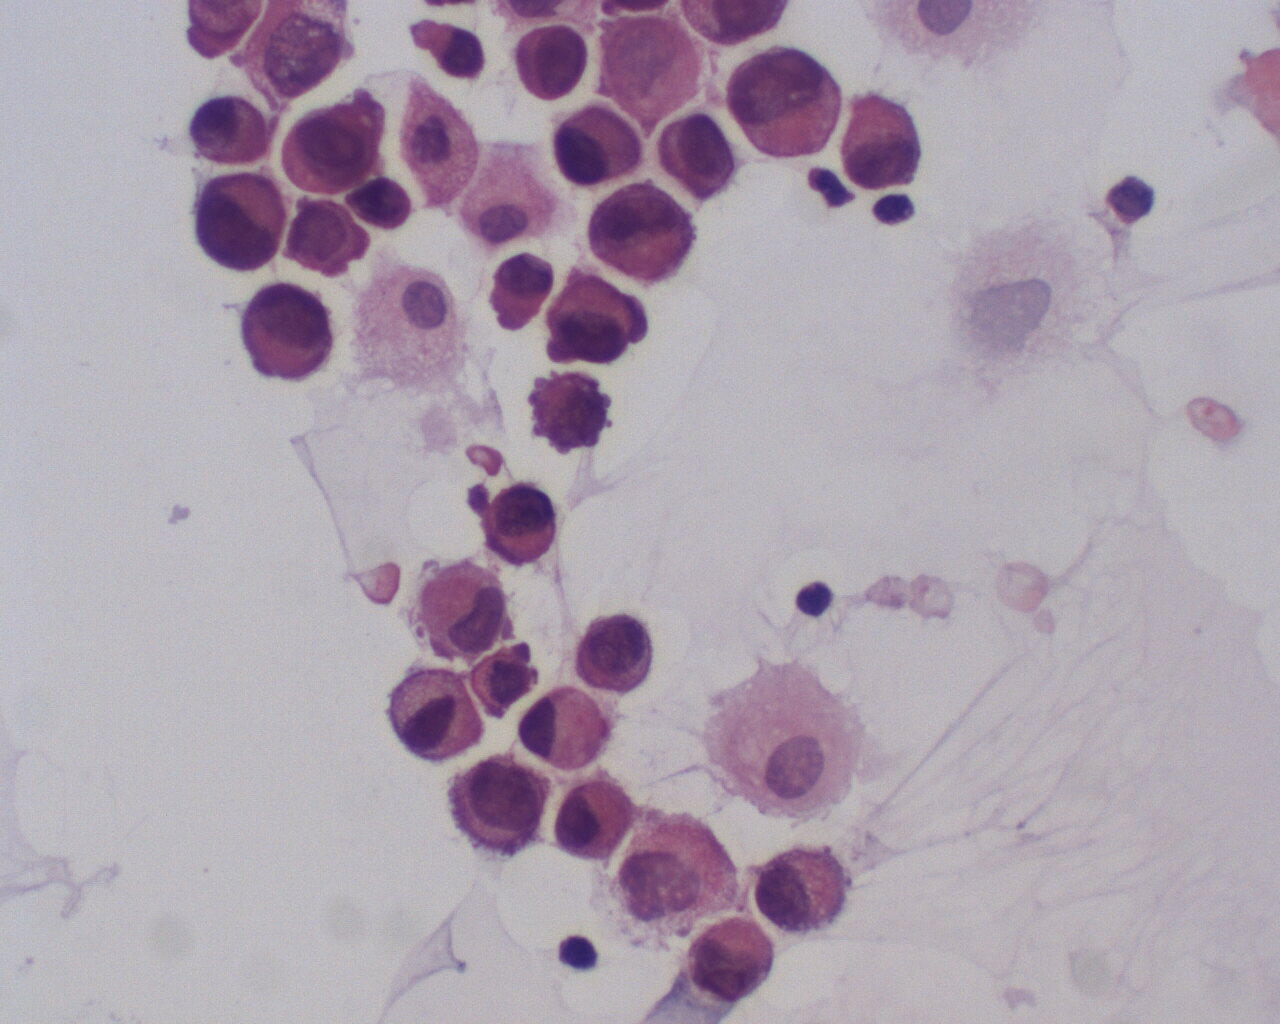ab: (723, 39, 861, 171), (281, 86, 390, 200), (584, 180, 697, 288), (441, 753, 548, 863), (182, 172, 300, 271), (544, 267, 650, 374), (235, 277, 335, 387), (754, 837, 857, 938), (386, 665, 487, 766), (842, 82, 929, 193), (652, 104, 741, 212), (523, 365, 616, 461), (551, 100, 650, 189), (550, 775, 637, 864), (511, 22, 603, 106), (481, 480, 560, 566), (575, 612, 658, 686), (470, 637, 541, 720), (346, 174, 416, 235)
lymph: (795, 574, 837, 619)
